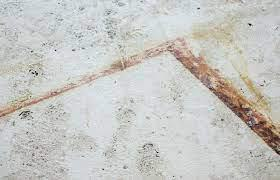Corrosion: (170, 35, 280, 155), (1, 41, 169, 118)
